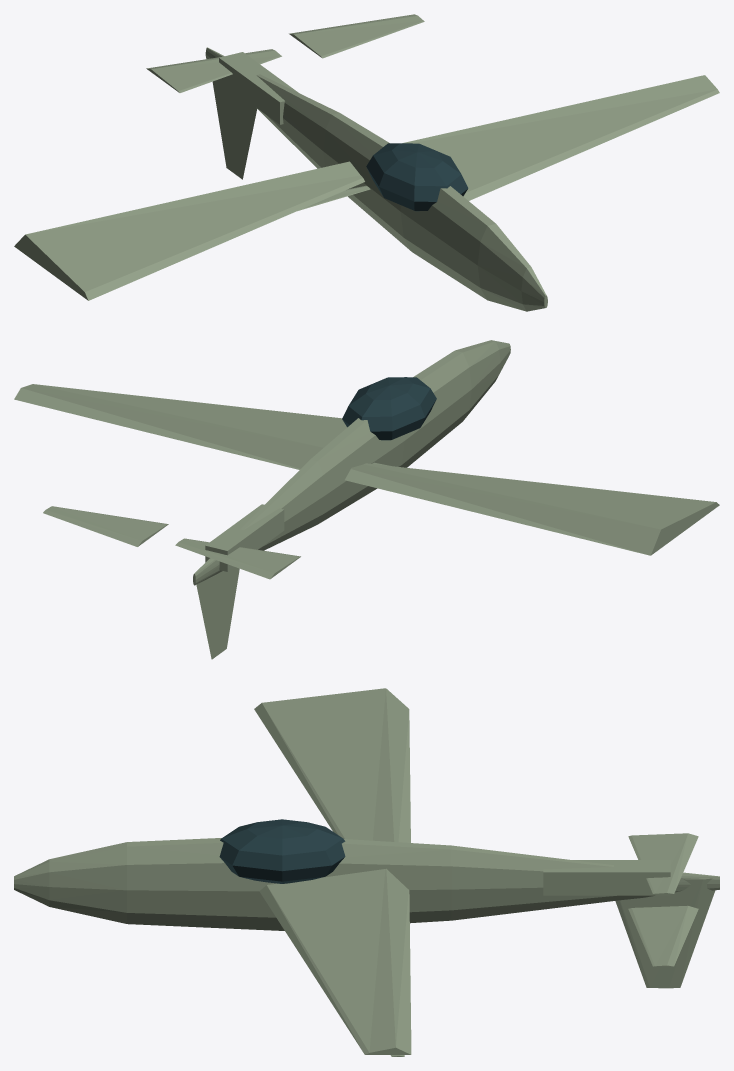
The model's file is spitfire.glb.
3 views of the same model, one above another, from view 1: azimuth 30°, elevation 25°; view 2: azimuth 150°, elevation 25°; view 3: azimuth 270°, elevation 25° (orthographic). The views are drawn at different scales.
Parts seen in each view (by area): view 1: Wing_L, Fuselage, Wing_R, Cockpit, Rudder, Elevator_R, TailBoom, Elevator_L; view 2: Wing_L, Fuselage, Wing_R, Cockpit, Rudder, Elevator_R, TailBoom, Elevator_L; view 3: Fuselage, Wing_R, Wing_L, Cockpit, Rudder, TailBoom, Elevator_R, Elevator_L.
Boxes of the visible parts, x1,y1,x2,y2 form: Wing_L: (14,161,364,300); Fuselage: (205,47,547,311); Wing_R: (402,75,719,200); Cockpit: (366,143,468,211); Rudder: (212,79,256,179); Elevator_R: (289,14,424,58); TailBoom: (219,52,298,124); Elevator_L: (146,49,281,92); Wing_L: (345,463,719,555); Fuselage: (193,340,510,585); Wing_R: (14,384,346,469); Cockpit: (342,377,436,440); Rudder: (196,567,239,659); Elevator_R: (43,506,168,546); TailBoom: (205,504,284,571); Elevator_L: (175,538,300,579); Fuselage: (14,838,719,930); Wing_R: (259,868,411,1054); Wing_L: (254,688,410,842); Cockpit: (219,819,345,883); Rudder: (615,878,715,988); TailBoom: (543,860,670,895); Elevator_R: (628,905,698,966); Elevator_L: (628,833,698,893).
Size of the model in its own units: 10.85 by 2.36 by 9.3.
